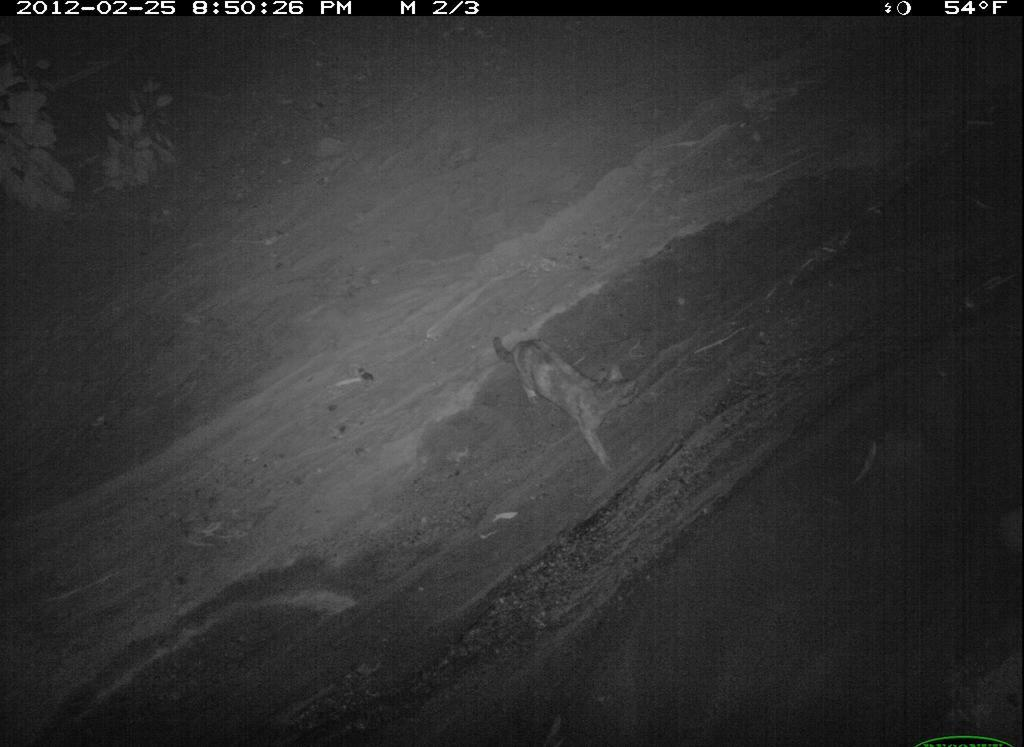cat: (978, 653, 1024, 747)
